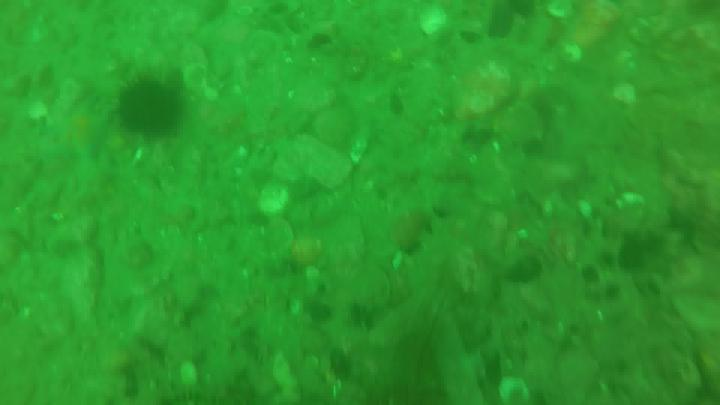echinus: (122, 73, 185, 139)
scallop: (416, 7, 450, 38), (499, 374, 533, 405), (258, 180, 287, 216), (548, 2, 575, 24), (183, 360, 197, 390)
